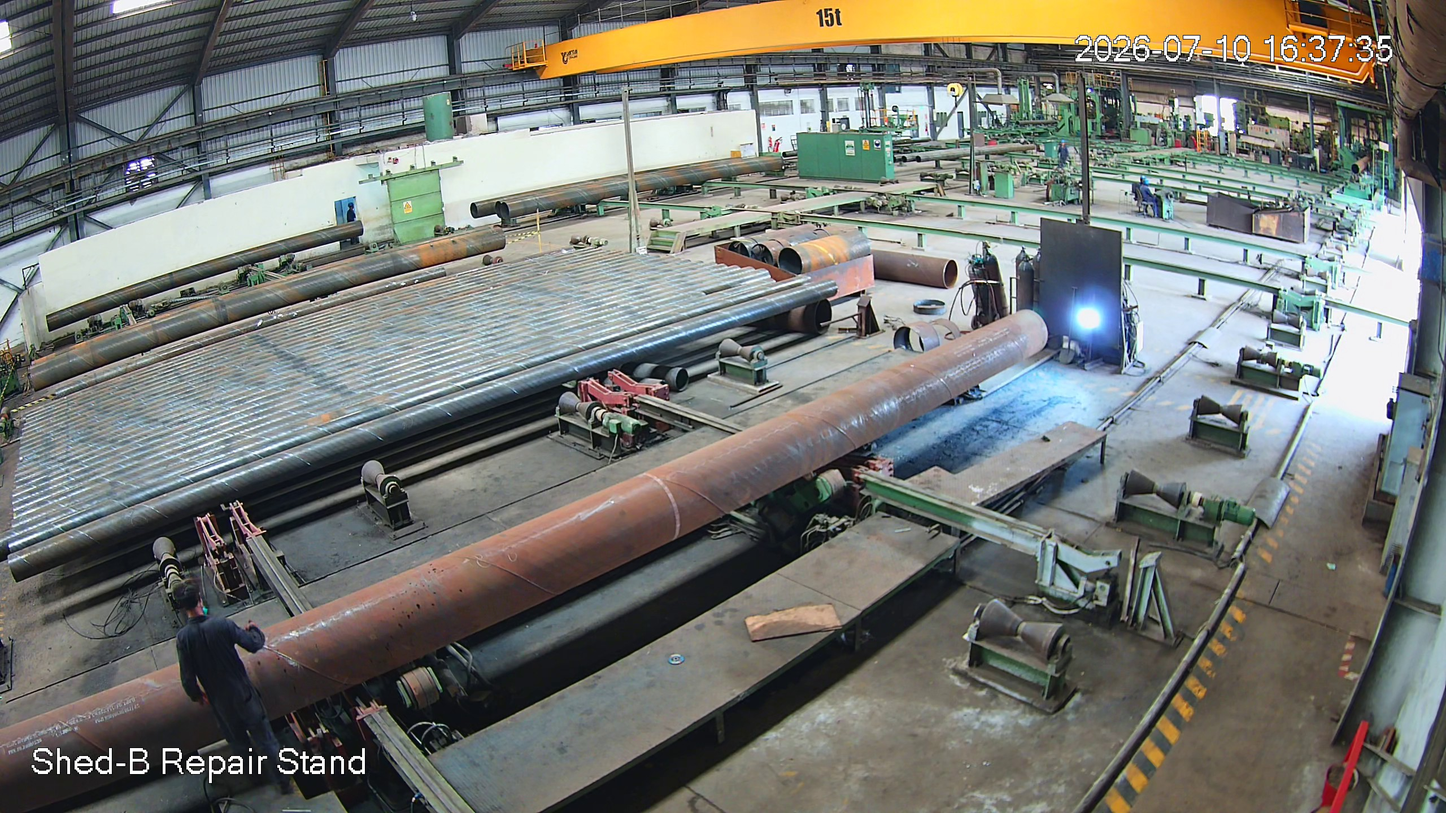Person: (160, 579, 352, 770)
